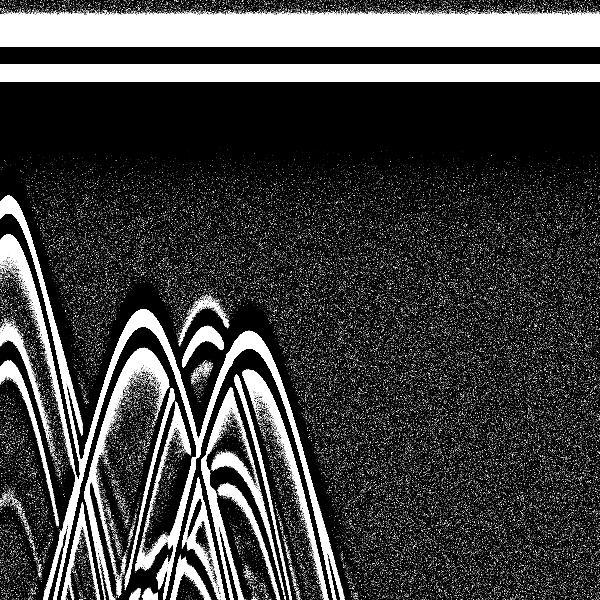pipe: (197, 5, 300, 408), (159, 6, 254, 397), (93, 7, 186, 381), (1, 3, 59, 296)
